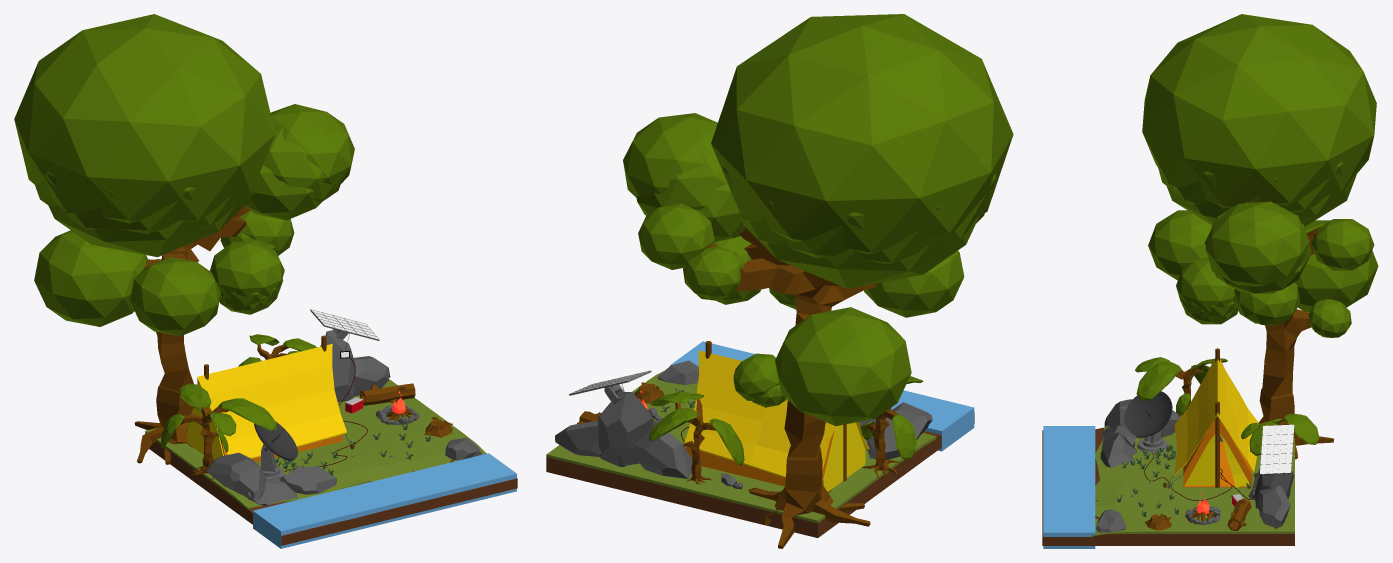
Rendered from campsite_first_export.glb.
3 renders of one model, left to right at view 1: azimuth 30°, elevation 25°; view 2: azimuth 150°, elevation 25°; view 3: azimuth 270°, elevation 25°, orthographic. The views are drawn at different scales.
Visible parts, largest first — view 1: Big tree leaves, Rock2.004, Tent-main, Big Tree, Rock_1.004, Small Tree Leaves 1, Rock2.001, Satellite Dish, Small Tree 1, Log Seat 1, Cube.004, Small Tree Leaves 2 (+1 smaller); view 2: Big tree leaves, Rock2.004, Tent-main, Big Tree, Rock2.001, Small Tree Leaves 2, Rock_1.004, Small Tree Leaves 1, Small Tree 2, Small Tree 1, Rock; view 3: Big tree leaves, Rock2.004, Tent-main, Big Tree, Rock_1.004, Rock2.001, Small Tree Leaves 1, Satellite Dish, Cube.004, Small Tree Leaves 2, Grass, Rock (+2 smaller).
Boxes of the visible parts, <box> form: Big tree leaves: <box>14,14,354,336</box>; Rock2.004: <box>145,379,517,548</box>; Tent-main: <box>184,344,346,462</box>; Big Tree: <box>134,205,250,464</box>; Rock_1.004: <box>206,452,336,505</box>; Small Tree Leaves 1: <box>160,383,276,451</box>; Rock2.001: <box>320,330,390,402</box>; Satellite Dish: <box>254,421,297,460</box>; Small Tree 1: <box>180,406,228,481</box>; Log Seat 1: <box>360,383,415,405</box>; Cube.004: <box>311,310,378,339</box>; Small Tree Leaves 2: <box>238,334,316,366</box>; Big tree leaves: <box>623,14,1013,426</box>; Rock2.004: <box>546,341,974,537</box>; Tent-main: <box>684,350,869,491</box>; Big Tree: <box>708,228,876,548</box>; Rock2.001: <box>555,391,742,489</box>; Small Tree Leaves 2: <box>649,391,744,465</box>; Rock_1.004: <box>861,402,932,459</box>; Small Tree Leaves 1: <box>860,376,923,460</box>; Small Tree 2: <box>675,399,716,484</box>; Small Tree 1: <box>862,407,900,477</box>; Rock: <box>657,360,698,385</box>; Big tree leaves: <box>1142,14,1378,337</box>; Rock2.004: <box>1042,426,1294,548</box>; Tent-main: <box>1174,358,1259,487</box>; Big Tree: <box>1258,226,1333,459</box>; Rock_1.004: <box>1100,399,1180,467</box>; Rock2.001: <box>1248,468,1293,528</box>; Small Tree Leaves 1: <box>1135,357,1227,415</box>; Satellite Dish: <box>1124,391,1172,436</box>; Cube.004: <box>1260,424,1294,474</box>; Small Tree Leaves 2: <box>1241,413,1319,456</box>; Grass: <box>1116,443,1251,516</box>; Rock: <box>1096,509,1126,532</box>.
Bounding box in the file's own units: 12.55 × 14.44 × 10.65.
